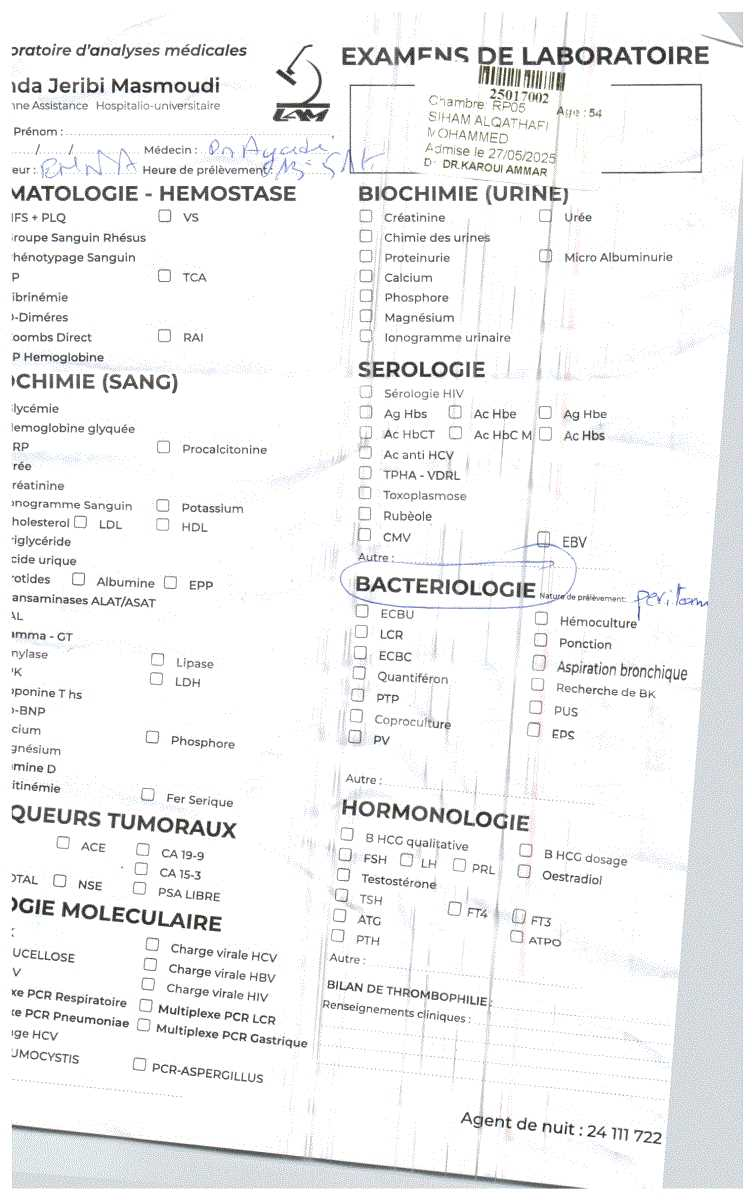zone_analyses: (15, 177, 725, 1185)
zone_date: (422, 137, 558, 153)
zone_patient: (430, 91, 610, 136)
zone_prescripteur: (137, 134, 336, 155), (422, 153, 552, 169)
